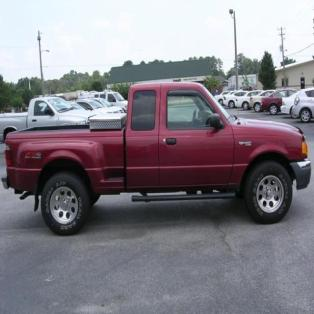Auto: (2, 82, 310, 235)
